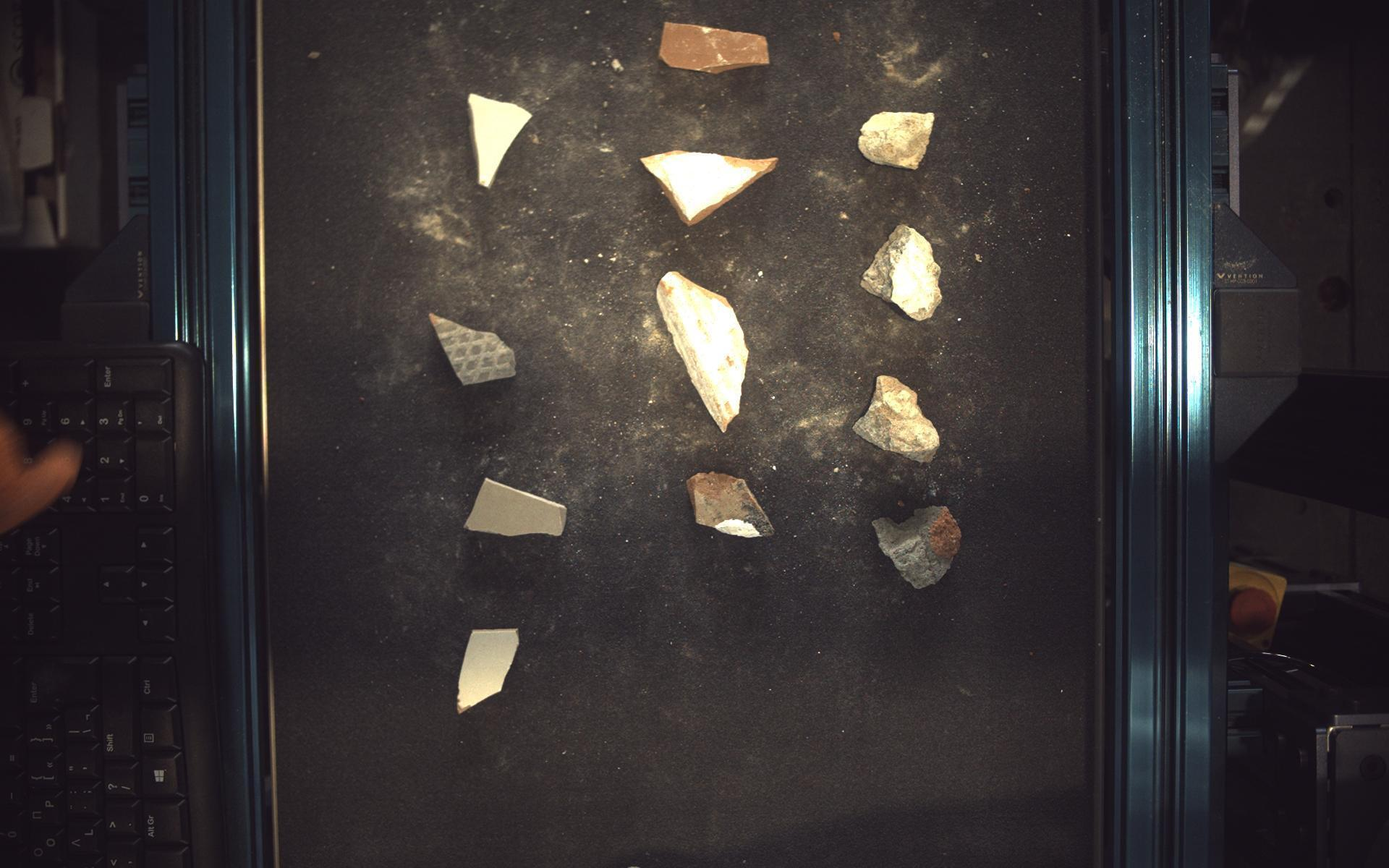brick: (657, 271, 750, 432), (642, 149, 780, 225), (688, 472, 775, 539), (660, 22, 770, 72)
concrete: (862, 224, 943, 320), (855, 376, 941, 463), (874, 507, 963, 590), (859, 111, 936, 169)
tile: (430, 312, 515, 385), (468, 93, 532, 187), (465, 478, 566, 537), (457, 630, 519, 715)
